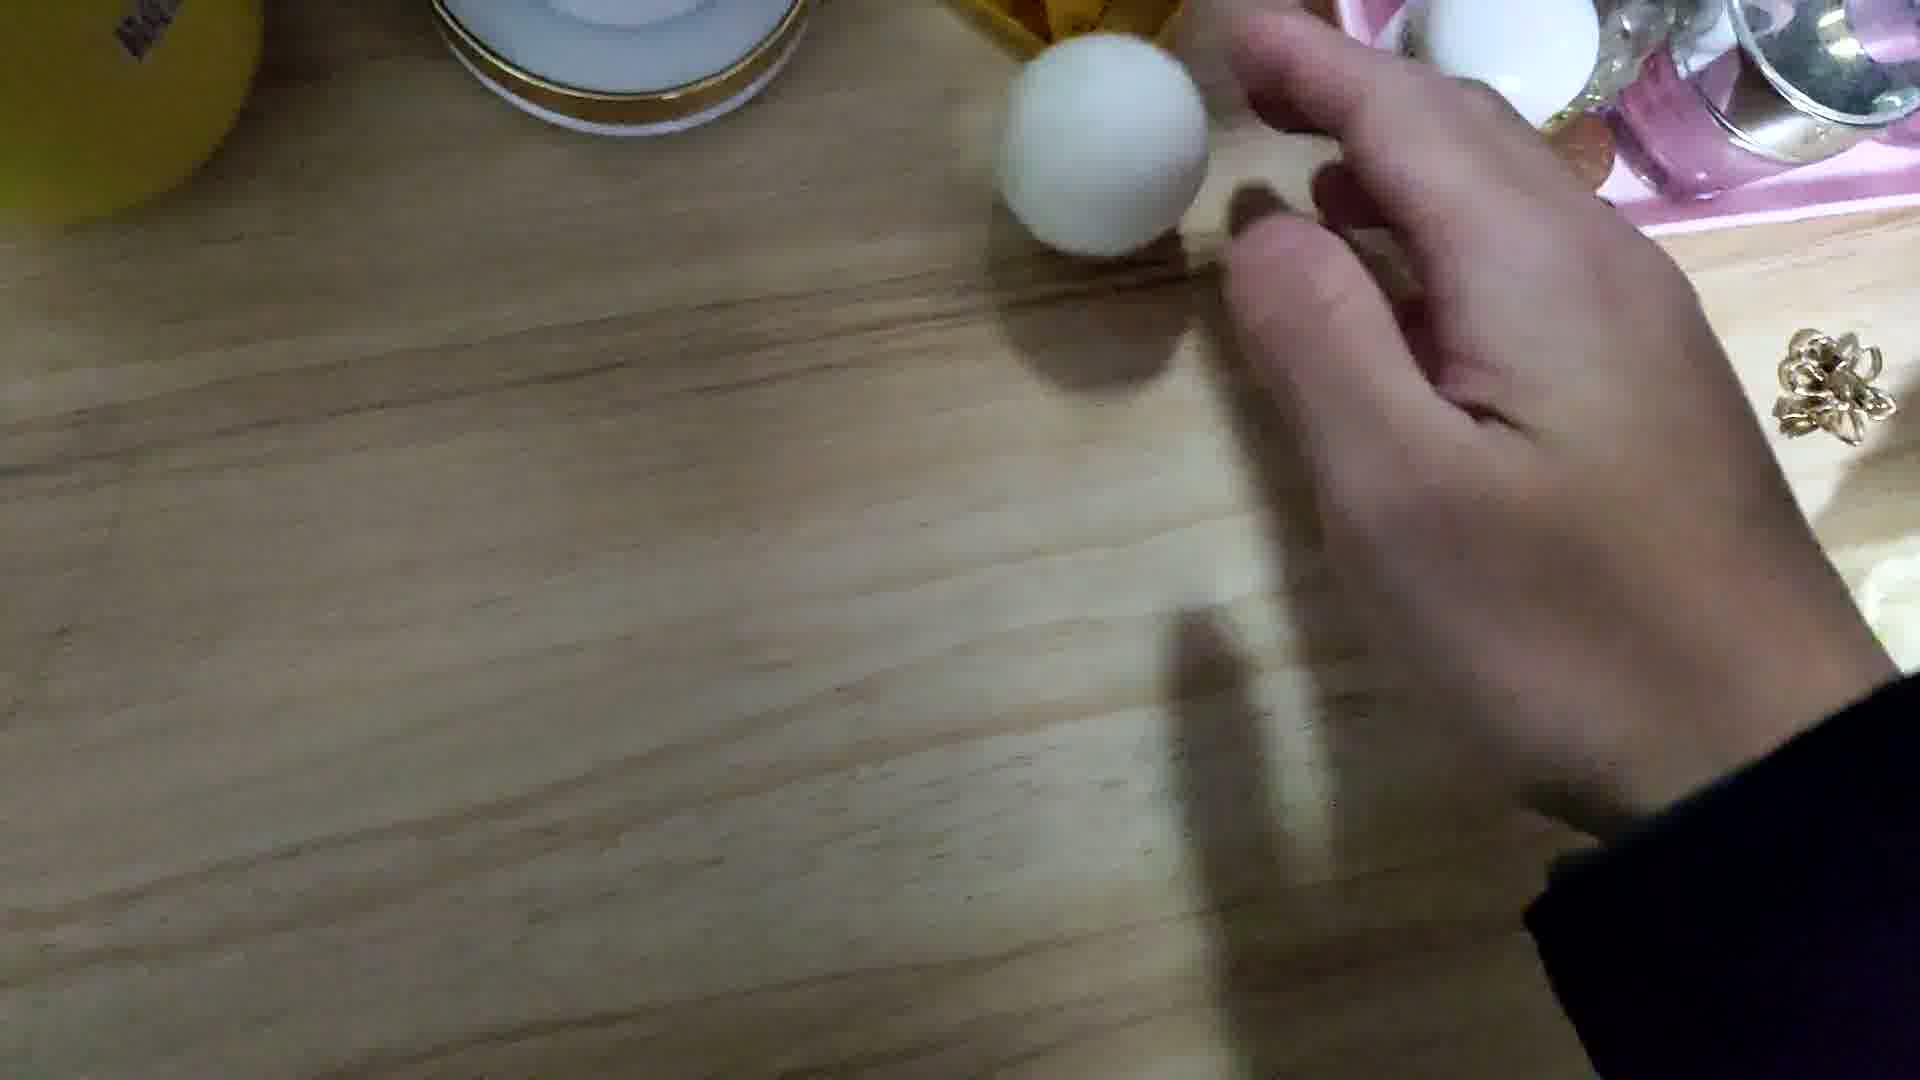Ball: (1001, 36, 1215, 258)
